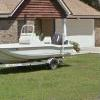Boat: (2, 25, 77, 72)
